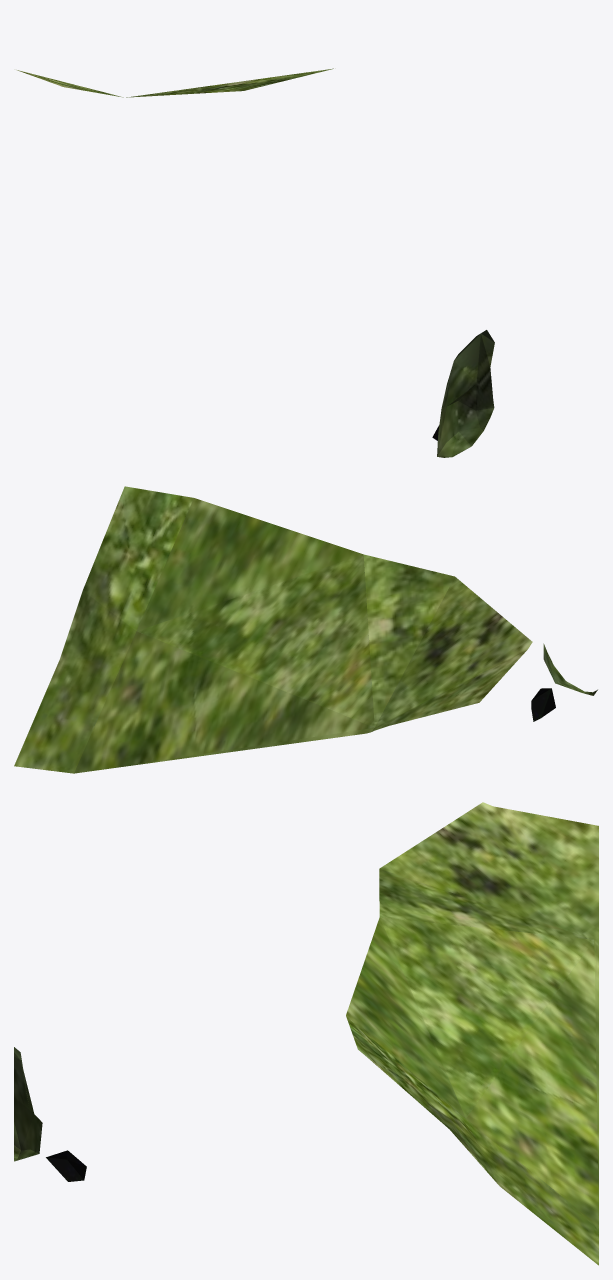
The picture shows the model from 3 angles, top to bottom: view 1: azimuth 30°, elevation 25°; view 2: azimuth 150°, elevation 25°; view 3: azimuth 270°, elevation 25°; orthographic projection. The views are drawn at different scales.
Size of the model in its own units: 2.95 by 1.58 by 2.95.
2 materials, 2 textured.
